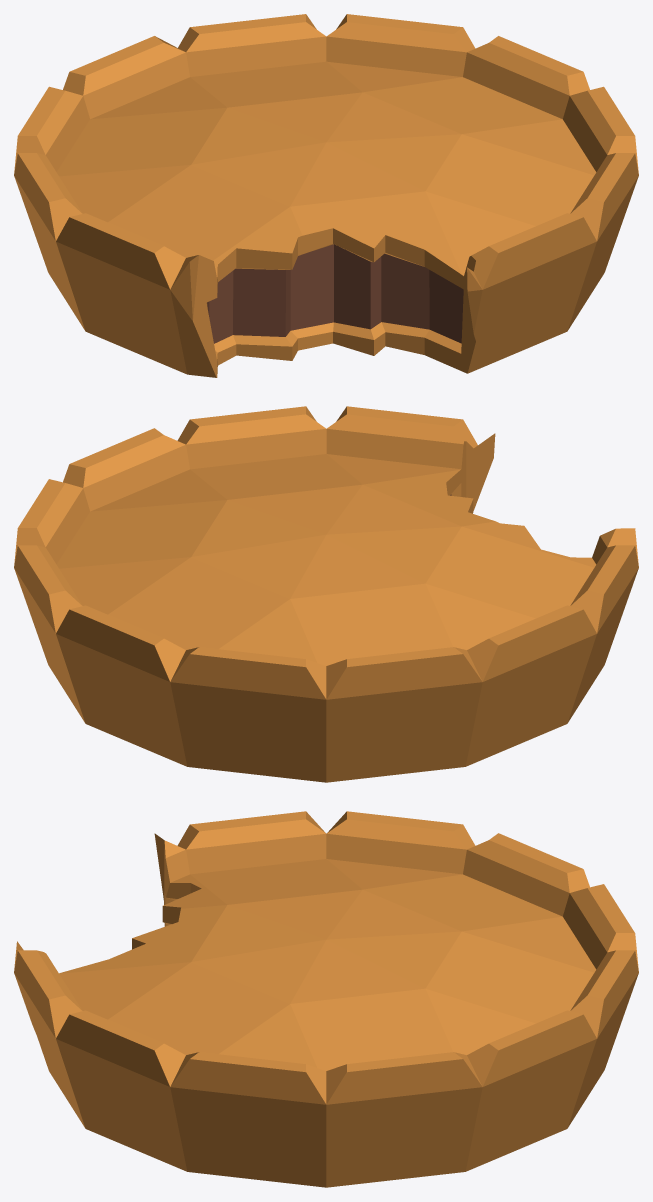
File: BittenPie.glb
3 renders of one model, top to bottom at view 1: azimuth 30°, elevation 25°; view 2: azimuth 150°, elevation 25°; view 3: azimuth 270°, elevation 25°, orthographic.
Parts seen in each view (by area): view 1: BittenPie; view 2: BittenPie; view 3: BittenPie.
Boxes of the visible parts, x1,y1,x2,y2 form: BittenPie: [14, 14, 638, 377]; BittenPie: [14, 406, 638, 782]; BittenPie: [14, 811, 638, 1187].
Size of the model in its own units: 0.255 by 0.0587 by 0.255.
